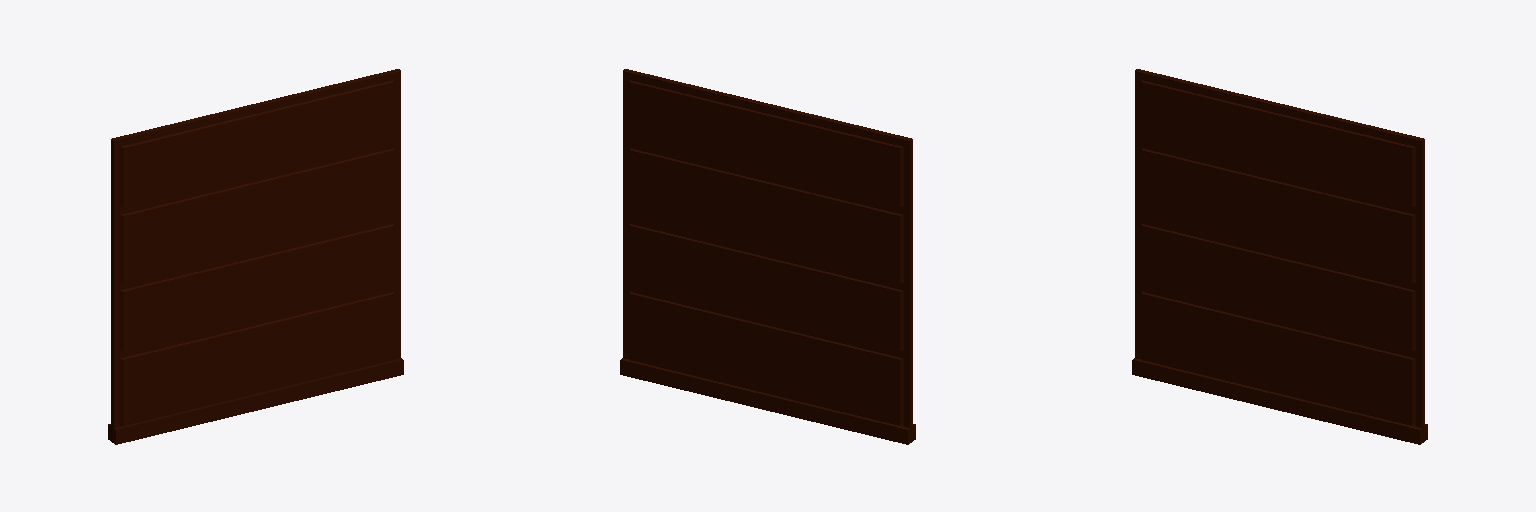
The model's file is 8x8_wall_door.obj.
The picture shows the model from 3 angles: view 1: azimuth 30°, elevation 25°; view 2: azimuth 150°, elevation 25°; view 3: azimuth 330°, elevation 25°; orthographic projection.
Visible parts, largest first — view 1: door; view 2: door; view 3: door.
Part boxes in pixels (x1,y1,x2,y2): door: (108,69,403,444); door: (620,69,915,444); door: (1132,69,1427,444).
Bounding box in the file's own units: 3.98 × 4 × 0.1843.